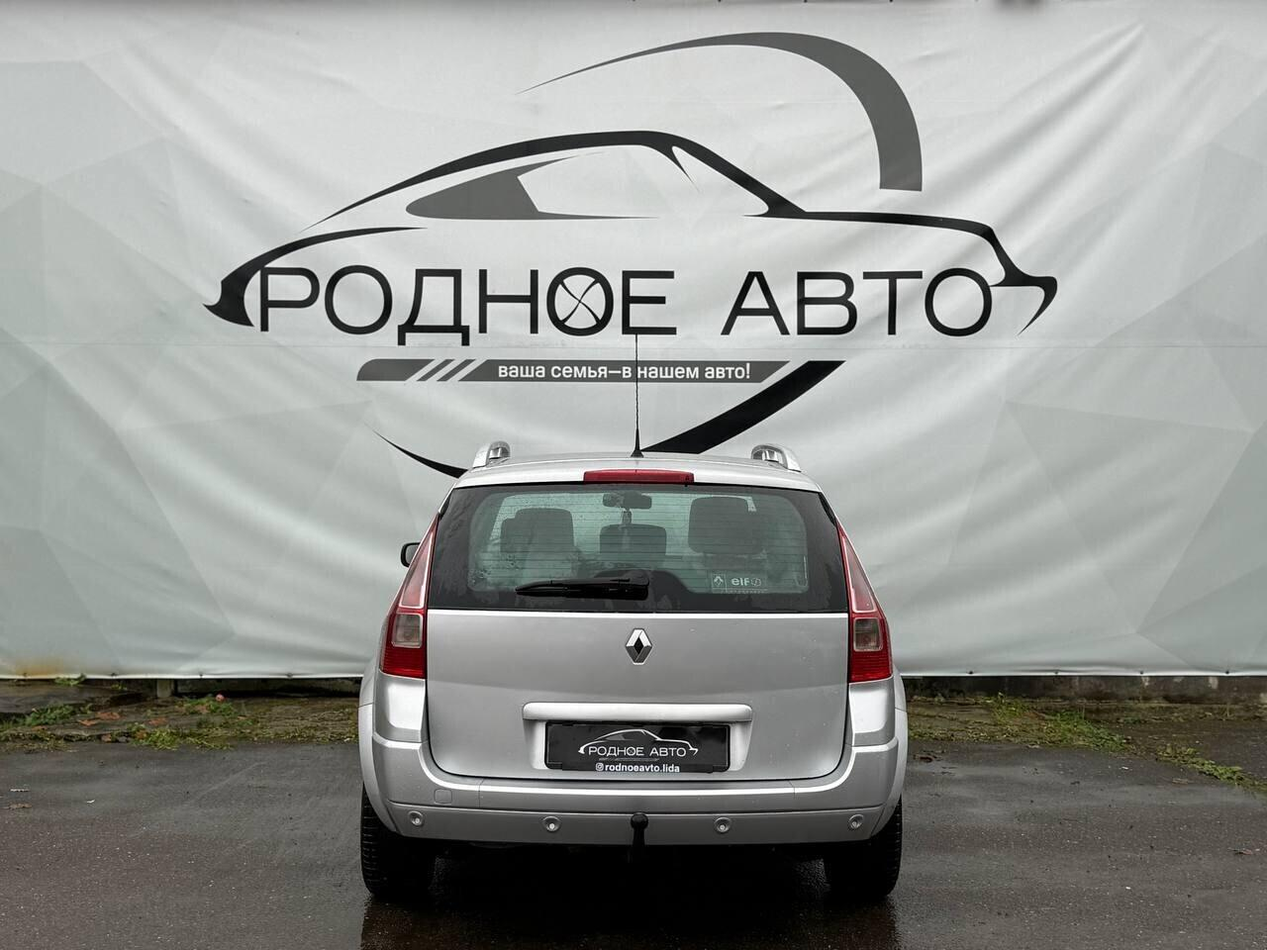Megane_2005-2009: (350, 443, 913, 902)
